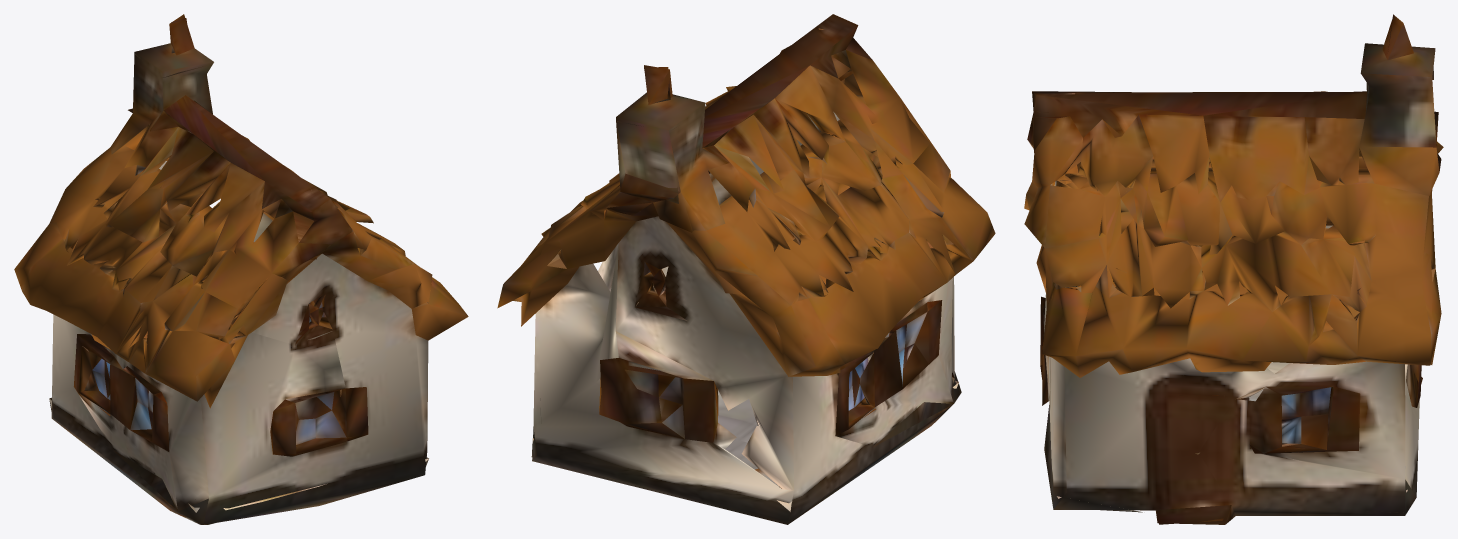
Rendered from lg-village-cottage-a.glb.
3 renders of one model, left to right at view 1: azimuth 30°, elevation 25°; view 2: azimuth 150°, elevation 25°; view 3: azimuth 270°, elevation 25°, orthographic. The views are drawn at different scales.
Parts seen in each view (by area): view 1: geometry_0; view 2: geometry_0; view 3: geometry_0.
Part boxes in pixels (bbox=[...]): geometry_0: bbox=[14, 14, 468, 524]; geometry_0: bbox=[497, 14, 995, 524]; geometry_0: bbox=[1024, 14, 1443, 524].
Bounding box in the file's own units: 0.8964 × 1 × 0.8644.
1 material, 1 textured.
